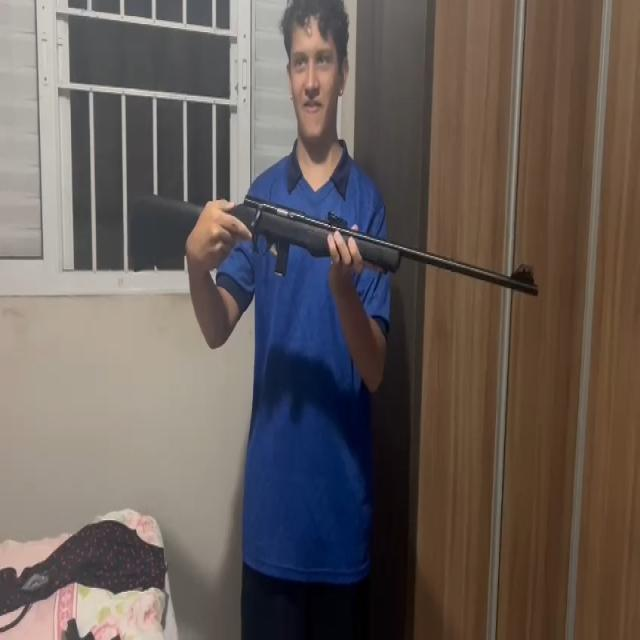gun: (131, 181, 540, 299)
